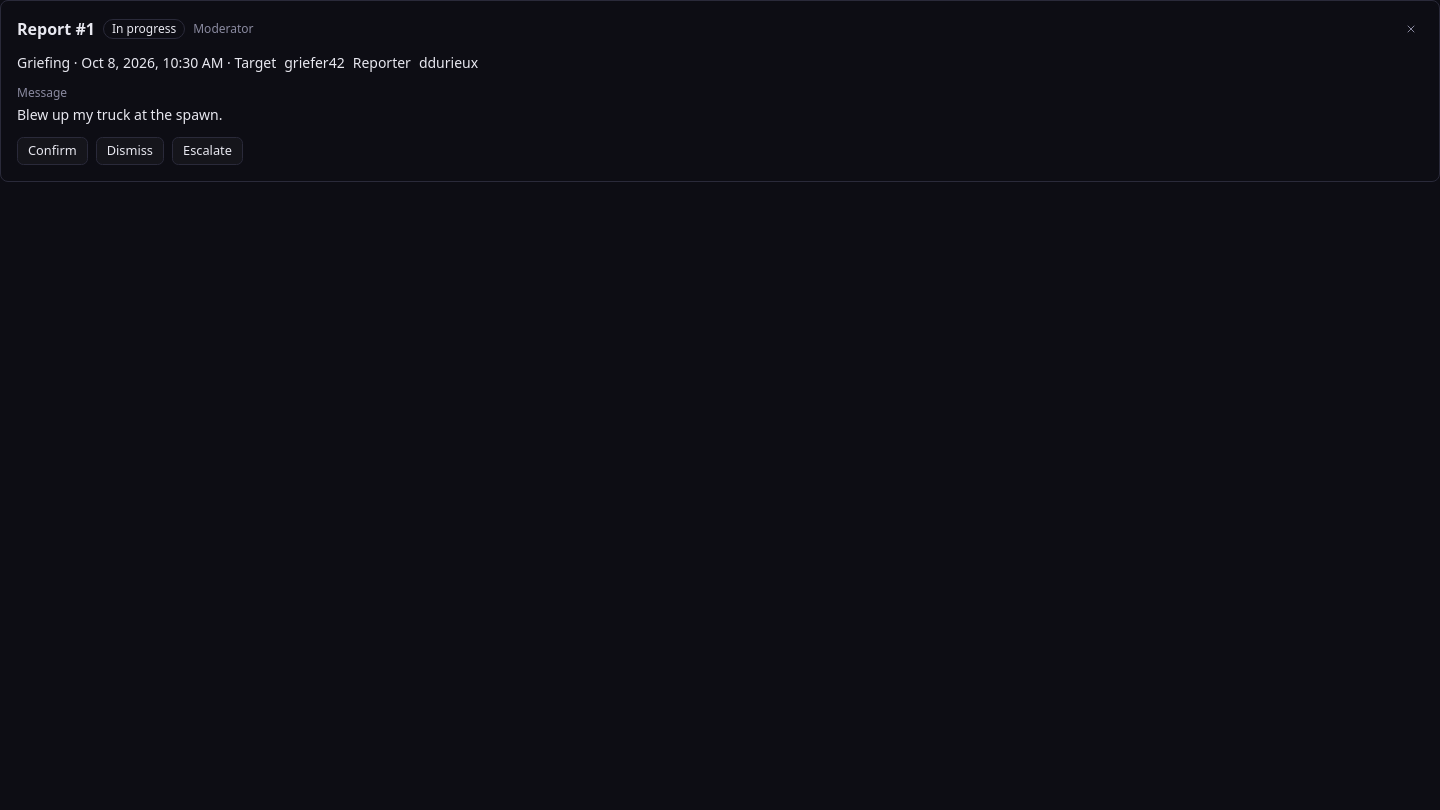
Test: ReportDetail › then offers to confirm, dismiss or escalate it
Click the button "Confirm" at (52, 151), box [17,137,88,165]
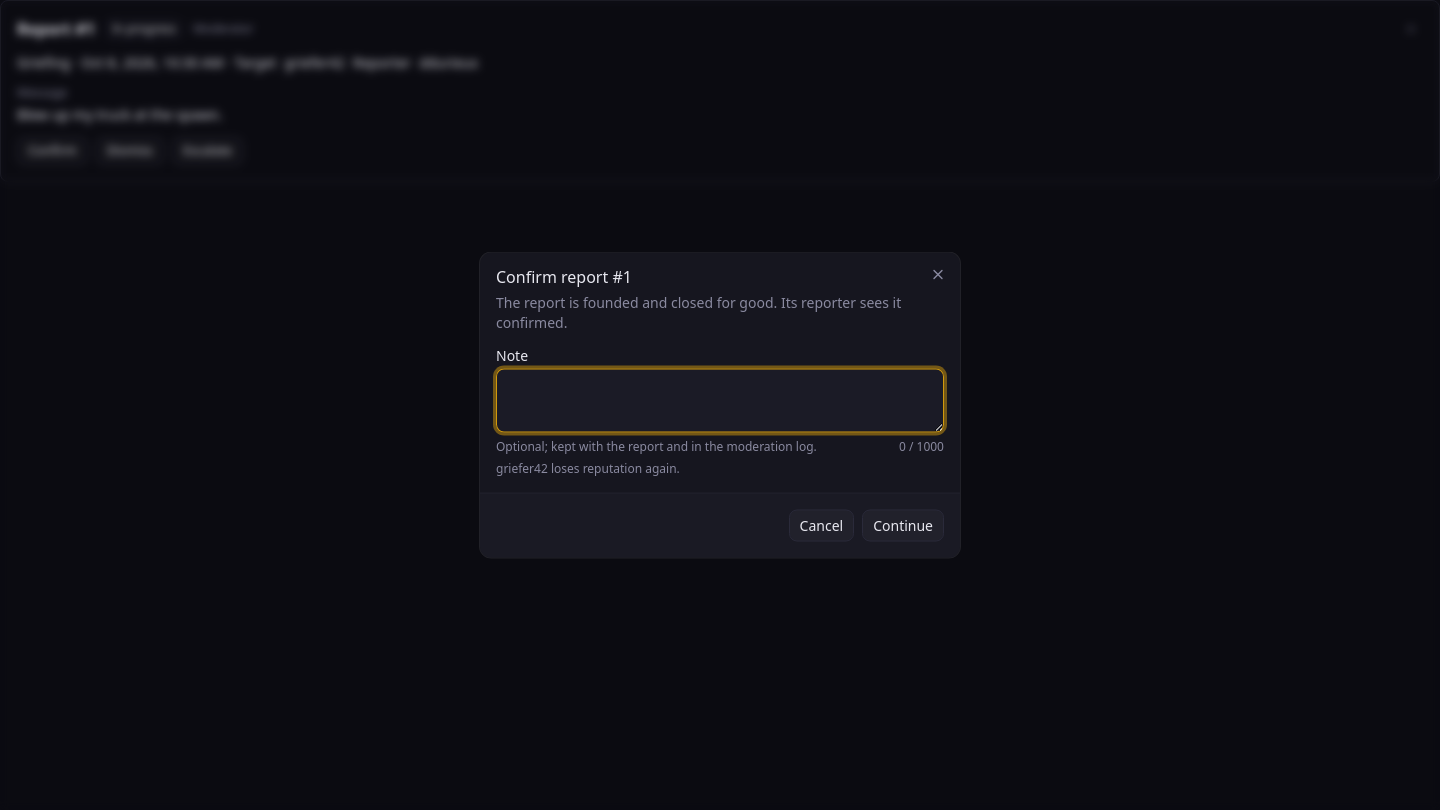
Check: the dialog "Confirm report #1" is shown, box [480,252,960,558]
